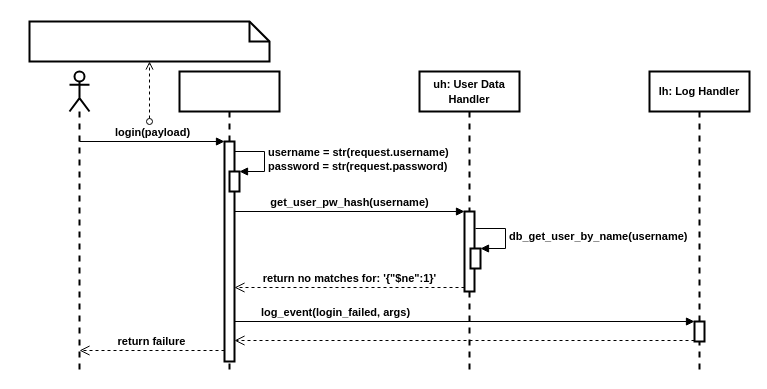
The diagram is 767 pixels wide and 389 high, and some of its shapes have lost their labels. Each missing label, with the centre of its shape:
ac: Authentication Component: pixel 229 221
POST /login {"username":{"$ne":1}&password {"$ne":1} }: pixel 149 41
